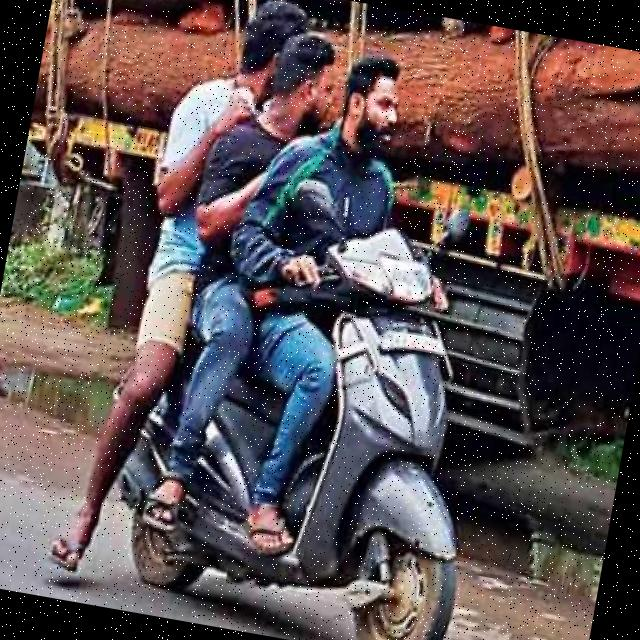No helmet: (331, 46, 416, 172)
Triple riding: (110, 0, 437, 473)
